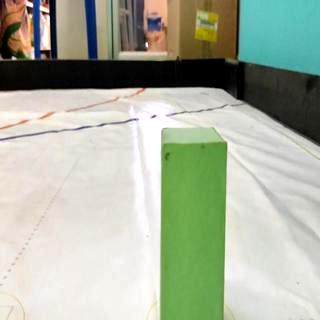greenbox: (161, 125, 228, 320)
